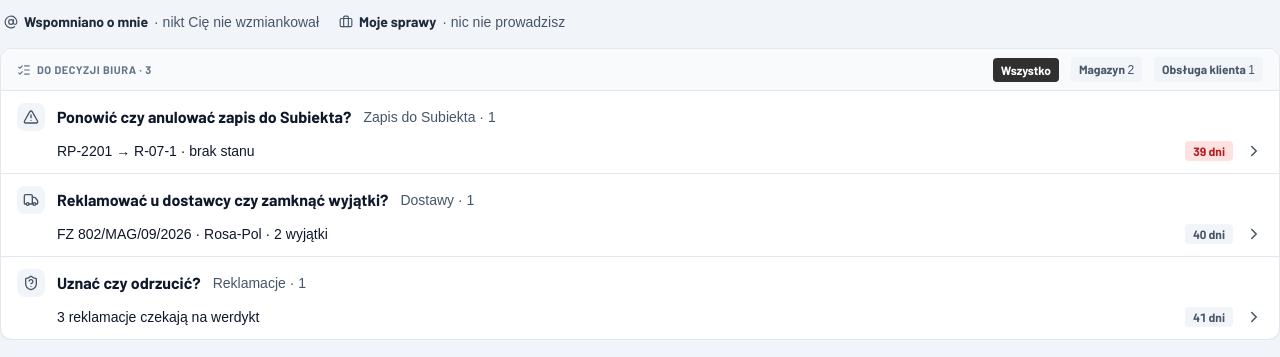
Scenario: DO DECYZJI › sito obszaru zawęża listę i niesie liczniki
Expected: the text "Uznać czy odrzucić?" is shown, [57,271,201,295]
Click the button "Obsługa klienta 1": (1209, 70) [1154,57,1263,82]
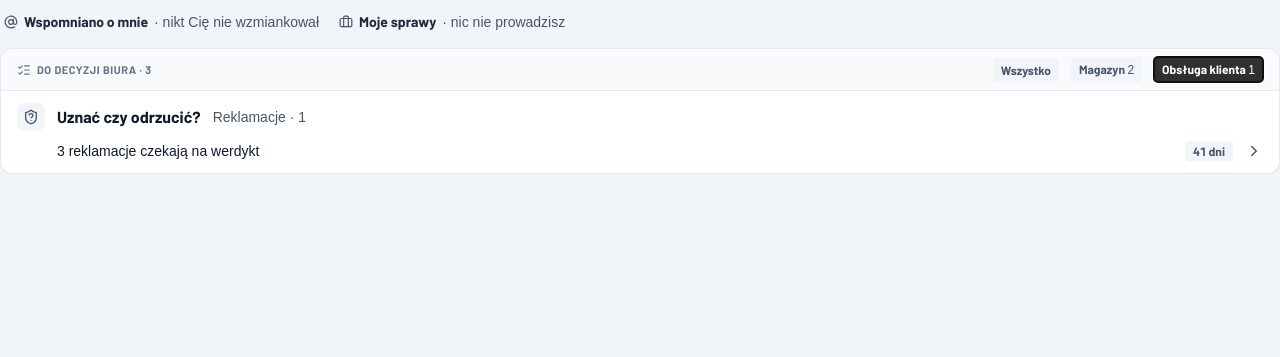
Expected: the text "Uznać czy odrzucić?" is shown, [57,105,201,129]
Now the text "Reklamować u dostawcy czy zamknąć wyjątki?" is gone
